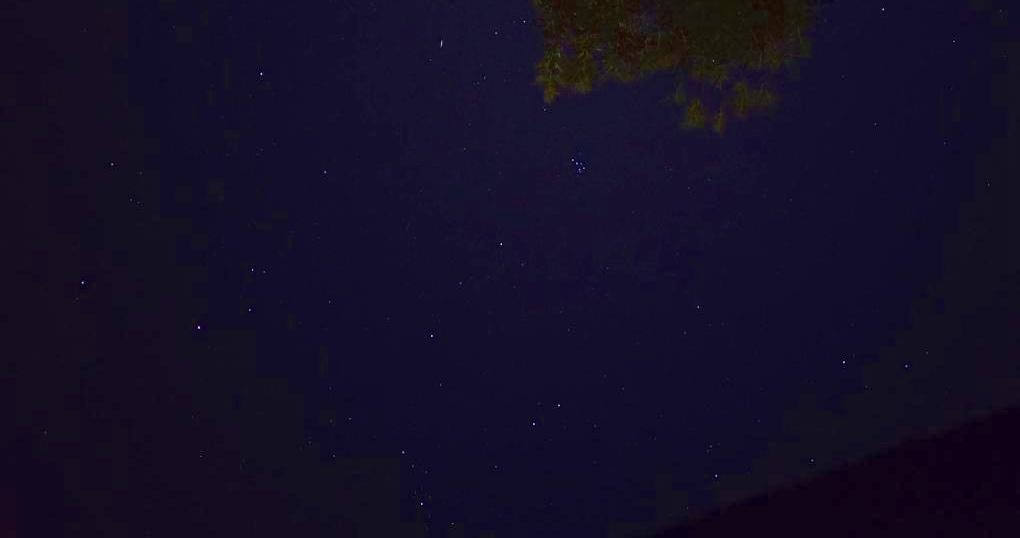meteorite: (431, 32, 455, 53)
